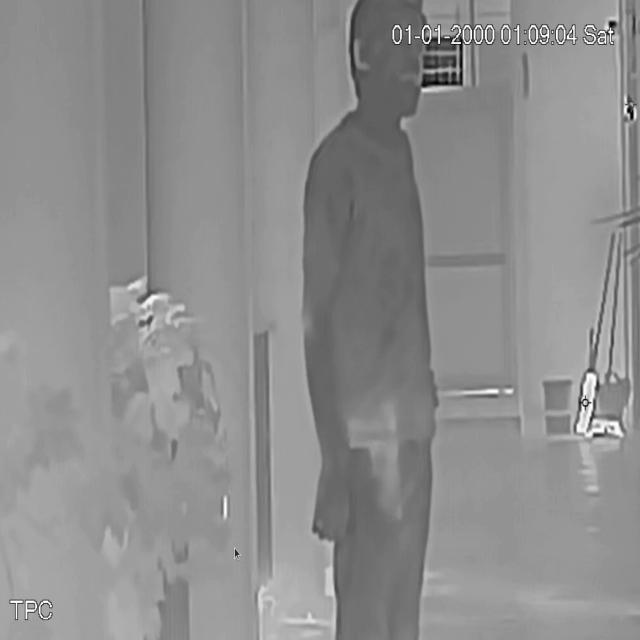Weapon: (338, 402, 439, 553)
